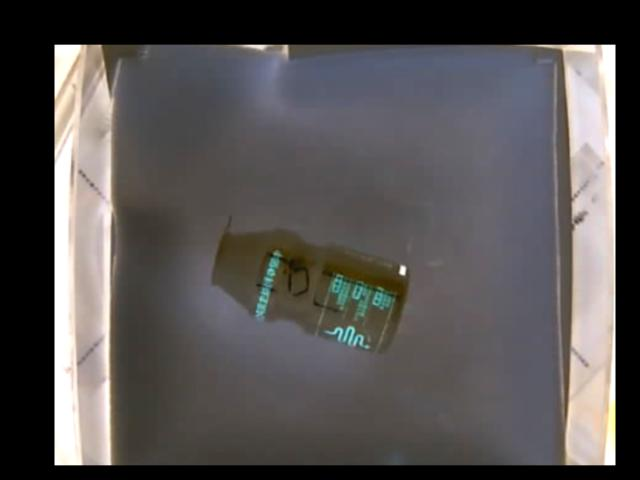Bottle: (207, 226, 411, 354)
